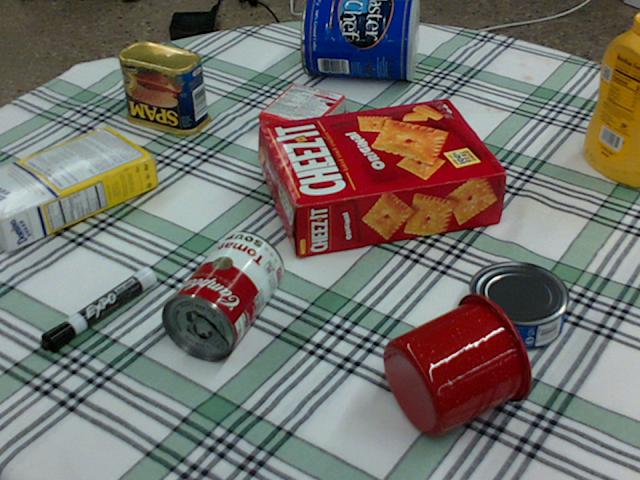cracker_box: (262, 98, 505, 256)
gelatin_box: (257, 80, 344, 147)
large_marker: (38, 267, 154, 353)
master_chef_can: (300, 0, 416, 79)
mug: (382, 290, 533, 437)
mustard_bottle: (581, 12, 639, 186)
potted_meat_can: (118, 41, 209, 134)
sugar_box: (0, 127, 155, 250)
tomato_soup_can: (160, 228, 284, 359)
tuna_fish_can: (468, 260, 570, 350)
